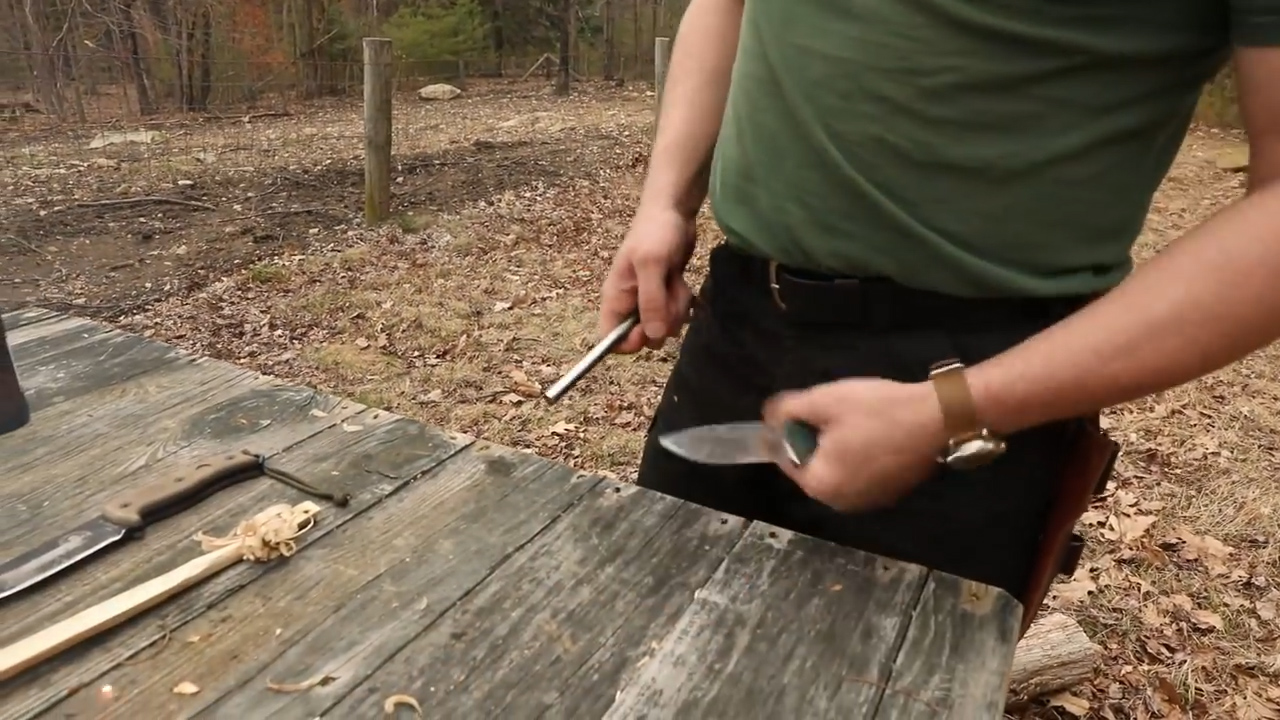knife: (646, 373, 892, 511)
